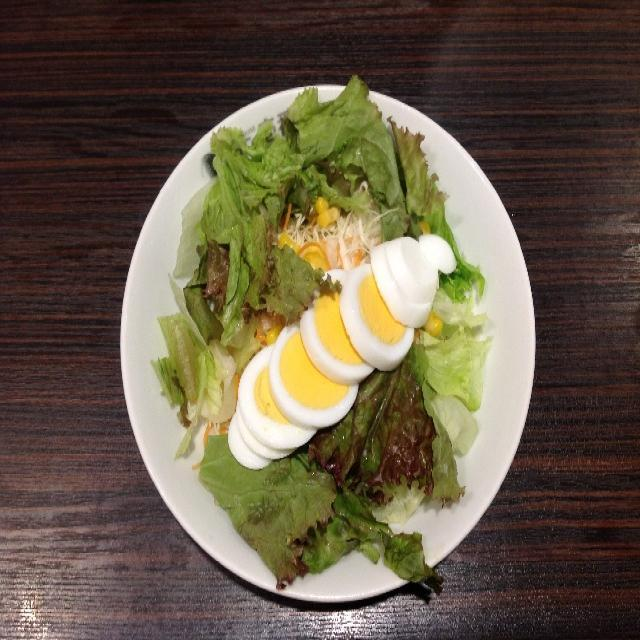Egg: (239, 238, 427, 436)
Green Salad: (157, 126, 488, 545)
